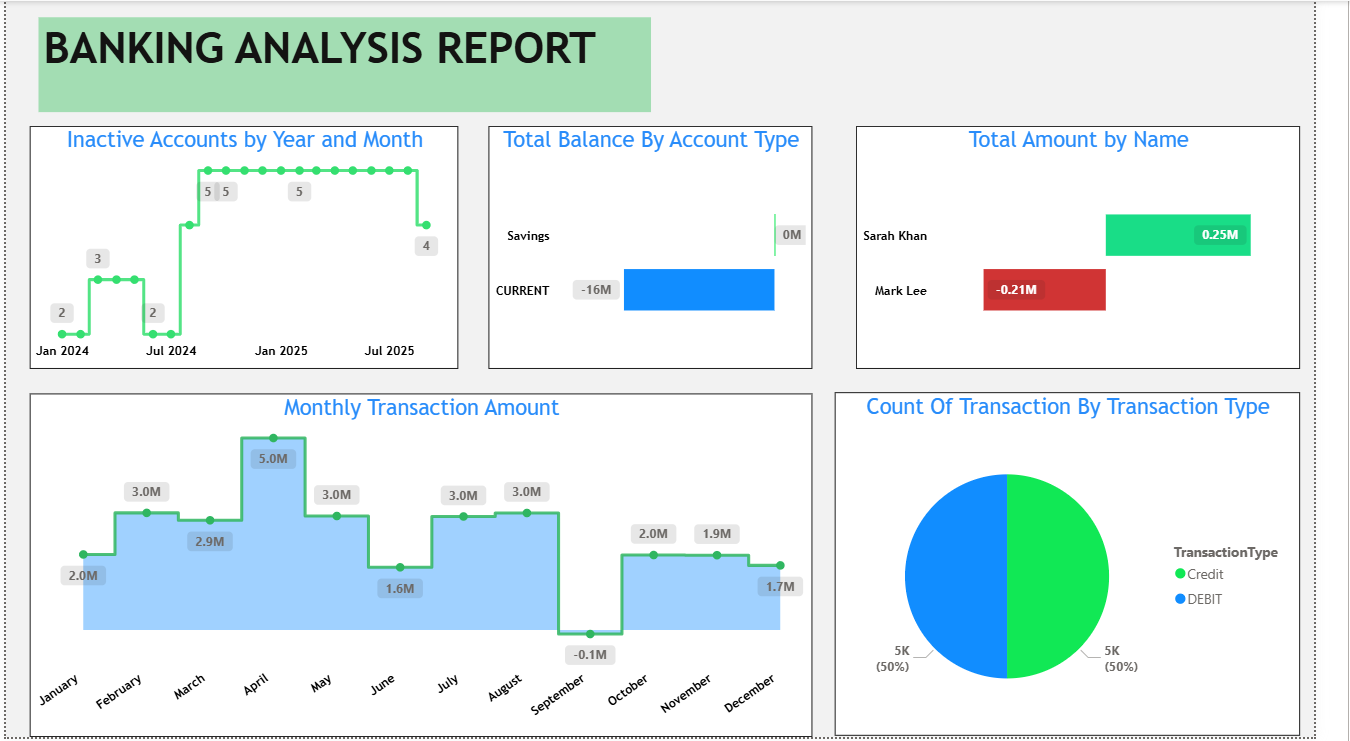

This screenshot's page, from the dashboard's own definition file:
{"tool":"powerbi","page":{"name":"banking 1","canvas":[1280,720],"ordinal":0},"visuals":[{"type":"pieChart","title":"Count Of Transaction  By Transaction Type","fields":{"Y":["Measures (2).Transation_count"],"Category":["CombinedBankingDataset.TransactionType"]},"box":[810.7,382.7,454.9,336.3],"z":0},{"type":"areaChart","title":"Monthly Transaction Amount","fields":{"Y":["Measures (2).Monthly Transaction Amount"],"Category":["CombinedBankingDataset.TransactionDate.Variation.Date Hierarchy.Month"]},"box":[23.2,384,765.5,336.3],"z":1000},{"type":"barChart","title":"Total Amount by Name","fields":{"Category":["CombinedBankingDataset.Name"],"Y":["CombinedBankingDataset.Amount"]},"box":[831.5,122.3,434.1,237.2],"z":2000},{"type":"clusteredBarChart","title":"Total Balance By Account Type","fields":{"Category":["CombinedBankingDataset.AccountType"],"Y":["Measures (2).Total Balance"]},"box":[472,122.3,316.7,237.2],"z":3000},{"type":"lineChart","fields":{"Y":["Measures (2).Inactive Accounts"],"Category":["CombinedBankingDataset.TransactionDate.Variation.Date Hierarchy.Year","CombinedBankingDataset.TransactionDate.Variation.Date Hierarchy.Month"]},"box":[23.2,122.3,419.4,237.2],"z":4000},{"type":"textbox","box":[31.8,15.9,599.2,92.9],"z":5000}]}

Visuals, with their boxes in screenshot pixels (x1, y1, x2, y2), scaled from the page's 1280x720 canvas onto the 1350x741 screenshot:
"Count Of Transaction  By Transaction Type" pieChart: box(855, 394, 1335, 740)
"Monthly Transaction Amount" areaChart: box(24, 395, 832, 740)
"Total Amount by Name" barChart: box(877, 126, 1335, 370)
"Total Balance By Account Type" clusteredBarChart: box(498, 126, 832, 370)
lineChart - Measures (2).Inactive Accounts x CombinedBankingDataset.TransactionDate.Variation.Date Hierarchy.Year: box(24, 126, 467, 370)
textbox: box(34, 16, 666, 112)
